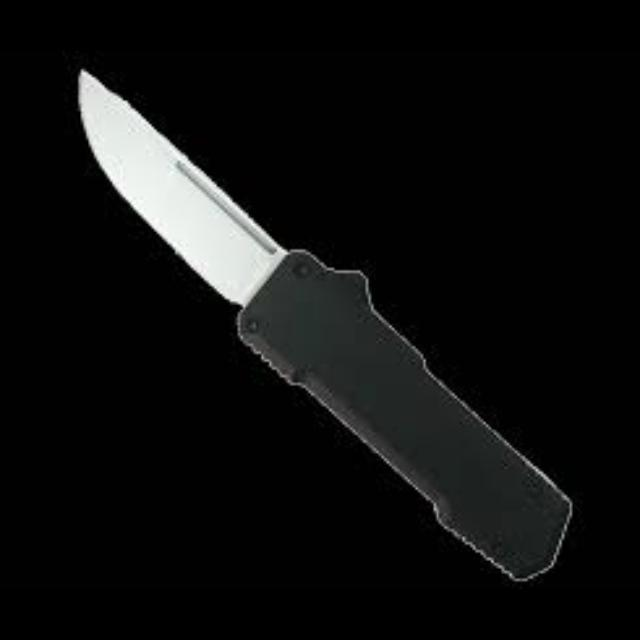knife: (74, 67, 572, 581)
